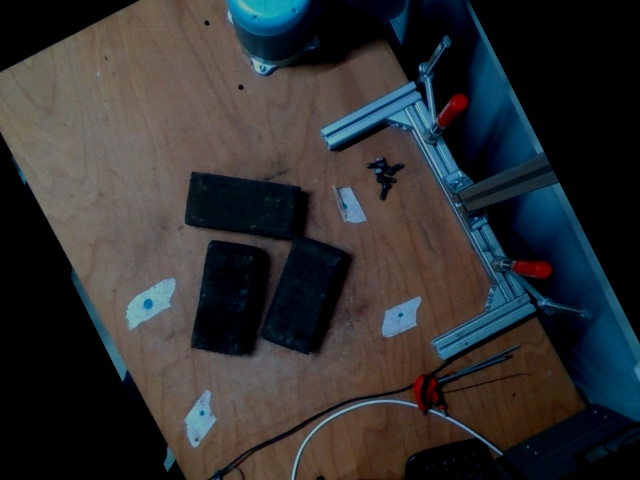brick: (260, 234, 341, 354), (181, 172, 298, 239), (191, 241, 256, 357)
